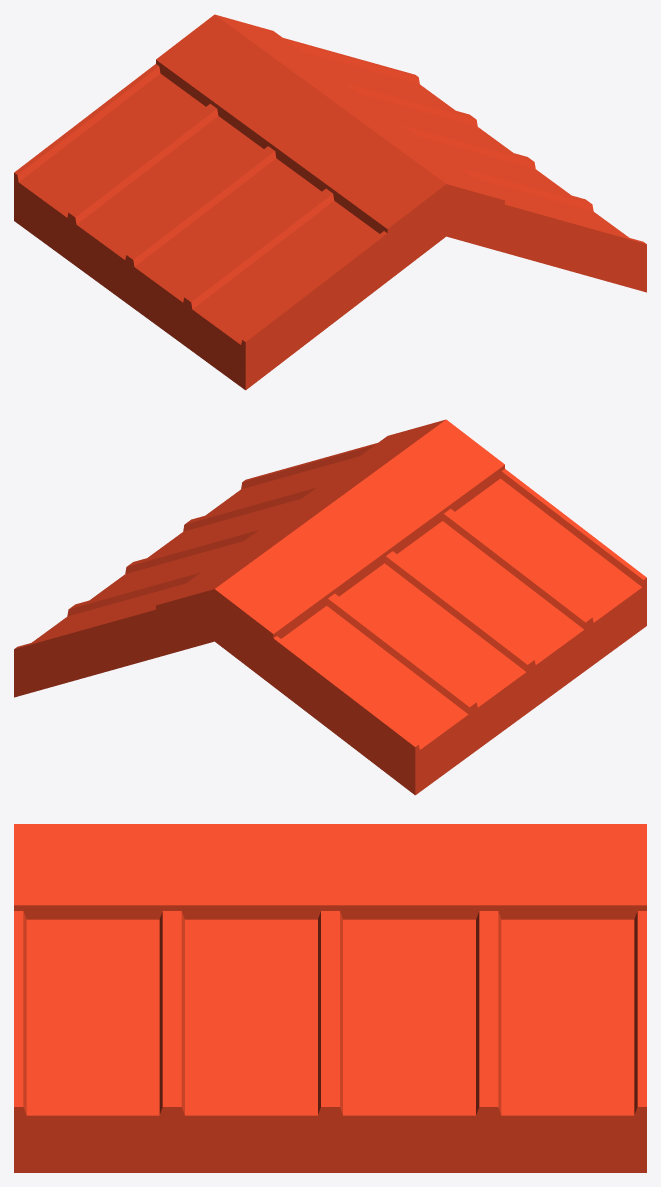
File: roof-metal-moderate-2x1m-center.fbx
The picture shows the model from 3 angles, top to bottom: view 1: azimuth 30°, elevation 25°; view 2: azimuth 150°, elevation 25°; view 3: azimuth 270°, elevation 25°; orthographic projection. The views are drawn at different scales.
Parts seen in each view (by area): view 1: roof-metal-moderate-2x1m-center; view 2: roof-metal-moderate-2x1m-center; view 3: roof-metal-moderate-2x1m-center.
Boxes of the visible parts, bbox=[...] form: roof-metal-moderate-2x1m-center: bbox=[14, 14, 646, 390]; roof-metal-moderate-2x1m-center: bbox=[14, 419, 646, 795]; roof-metal-moderate-2x1m-center: bbox=[14, 824, 646, 1172].
Bounding box in the file's own units: 2 × 0.7502 × 2.
